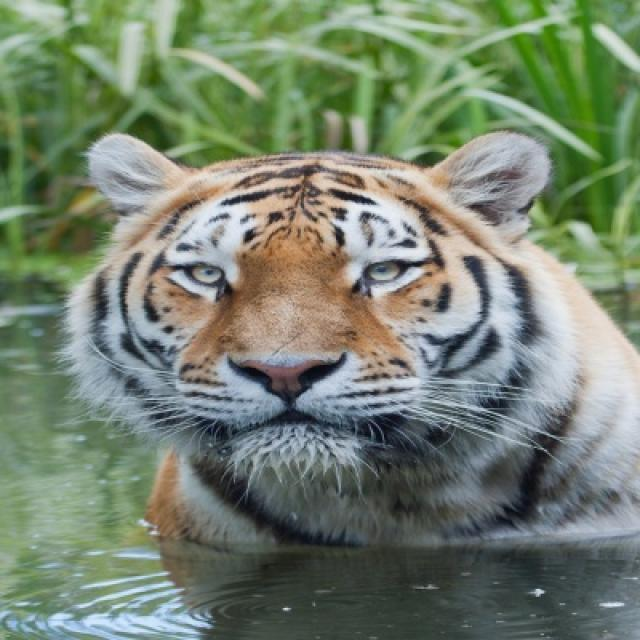Tiger: (96, 155, 536, 479)
